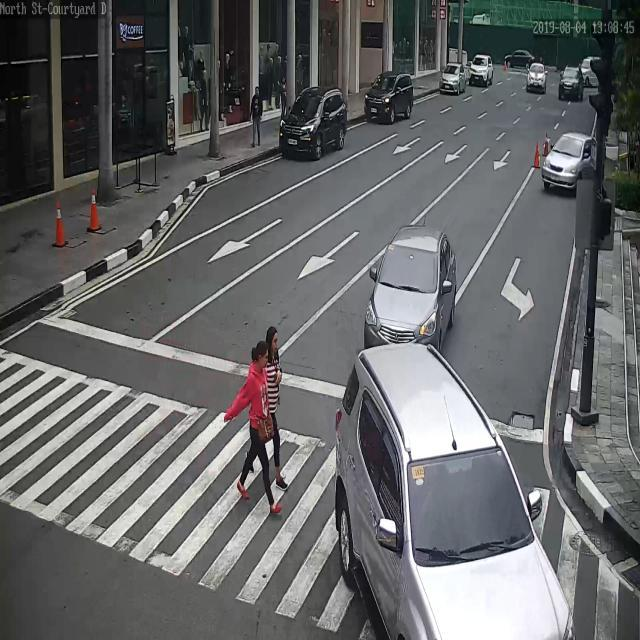car: (333, 340, 575, 640), (363, 223, 457, 349), (280, 88, 348, 163), (541, 131, 599, 192), (364, 71, 414, 126), (558, 65, 584, 102), (438, 64, 467, 96), (468, 54, 495, 88), (527, 63, 547, 94), (504, 49, 534, 69)
